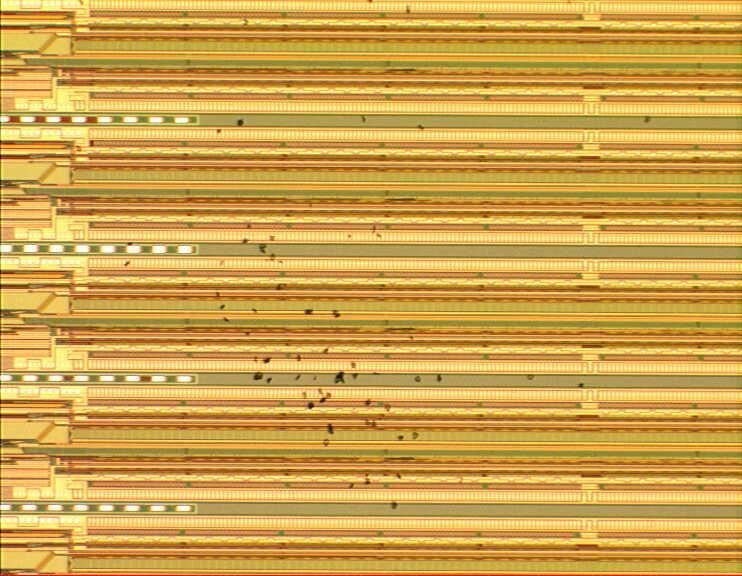PO CONTAMINATION: (70, 1, 660, 516)
